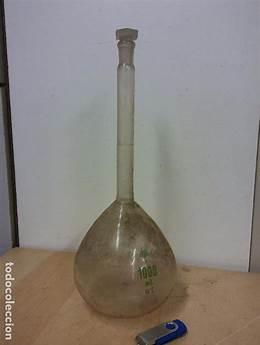Volumetric flask: (60, 8, 186, 315)
